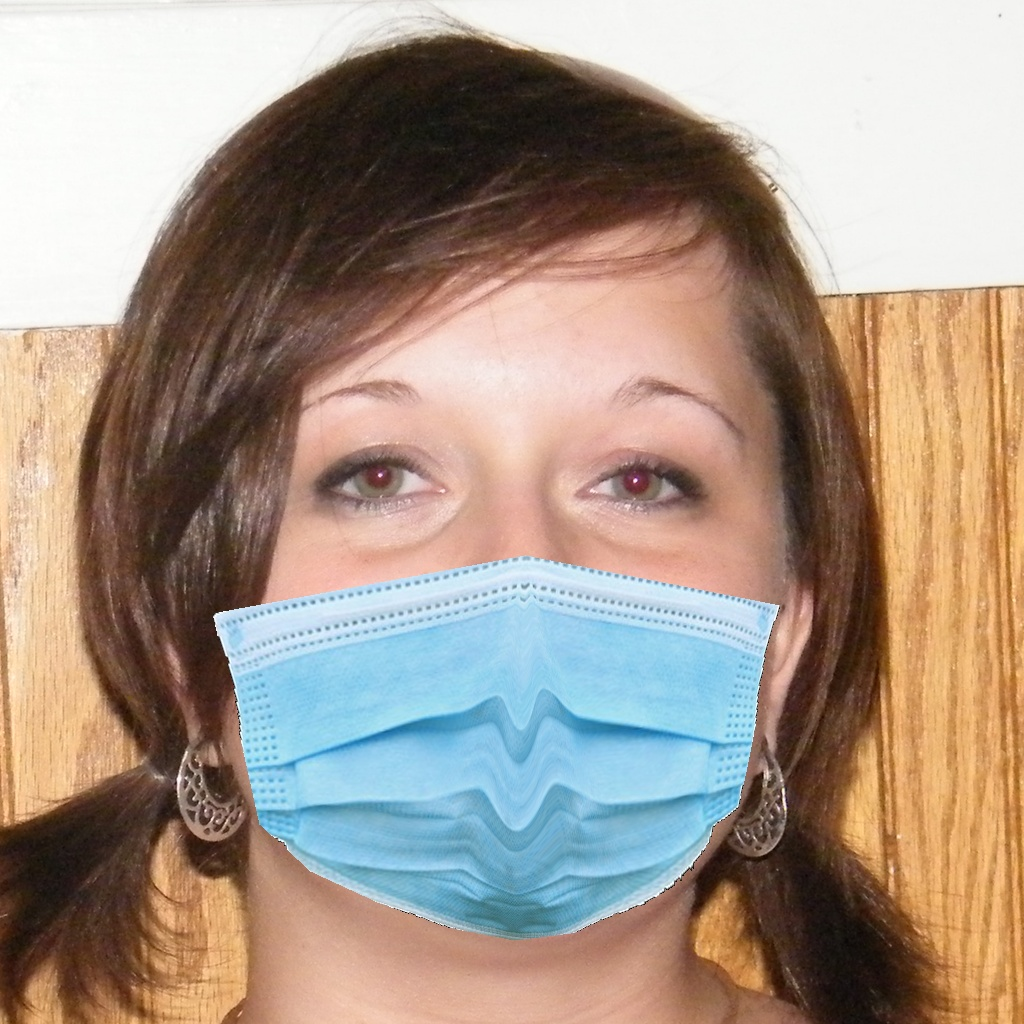Mask: (183, 334, 800, 948)
